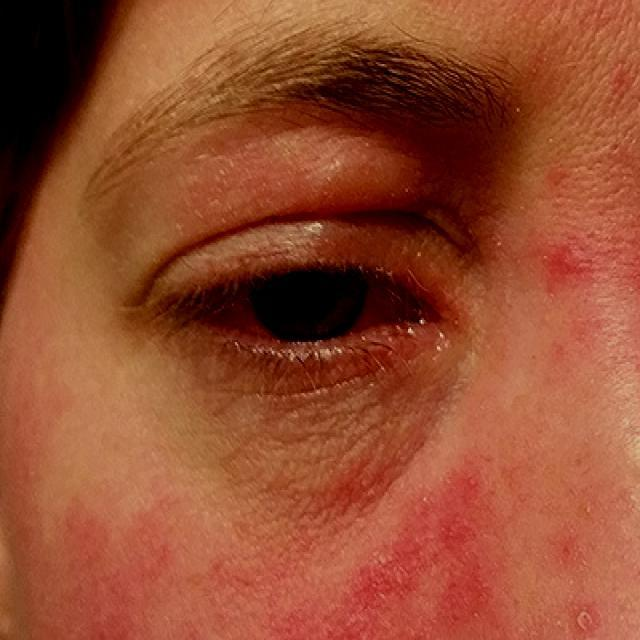Rosacea: (6, 465, 495, 640), (532, 228, 603, 298)
